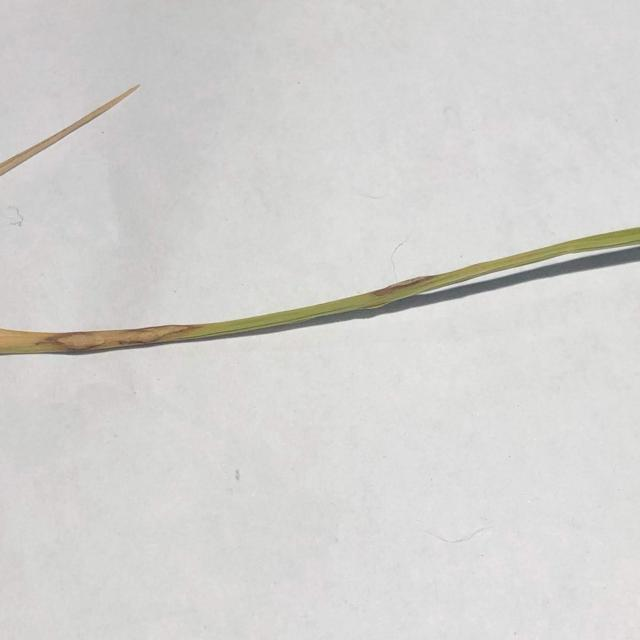Blast: (51, 338, 99, 350), (108, 332, 141, 345), (147, 329, 175, 342)
